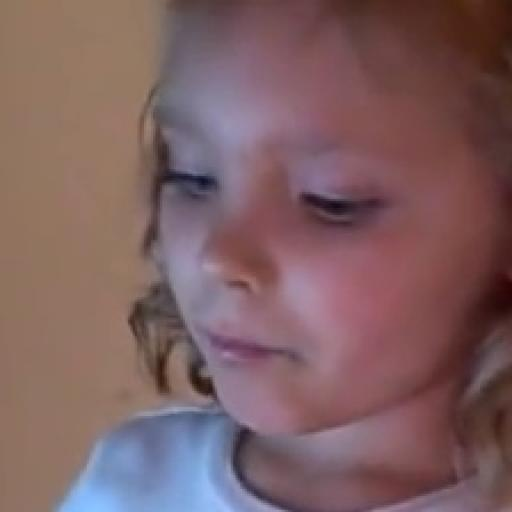Autism: (87, 1, 512, 461)
